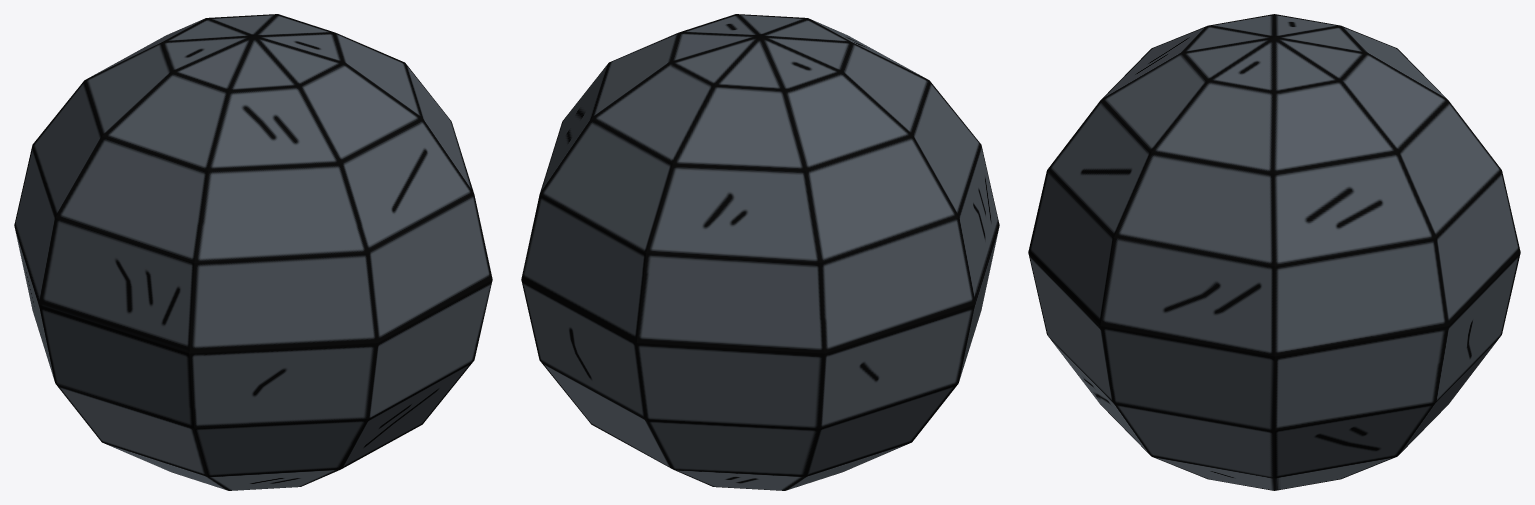
The model's file is balle_flipper.fbx.
3 renders of one model, left to right at view 1: azimuth 30°, elevation 25°; view 2: azimuth 150°, elevation 25°; view 3: azimuth 270°, elevation 25°, orthographic.
Parts seen in each view (by area): view 1: Balle_flipper; view 2: Balle_flipper; view 3: Balle_flipper.
Boxes of the visible parts, x1,y1,x2,y2 form: Balle_flipper: [14, 14, 492, 490]; Balle_flipper: [521, 14, 999, 490]; Balle_flipper: [1028, 14, 1520, 490].
Bounding box in the file's own units: 22.73 × 21.9 × 22.73.
